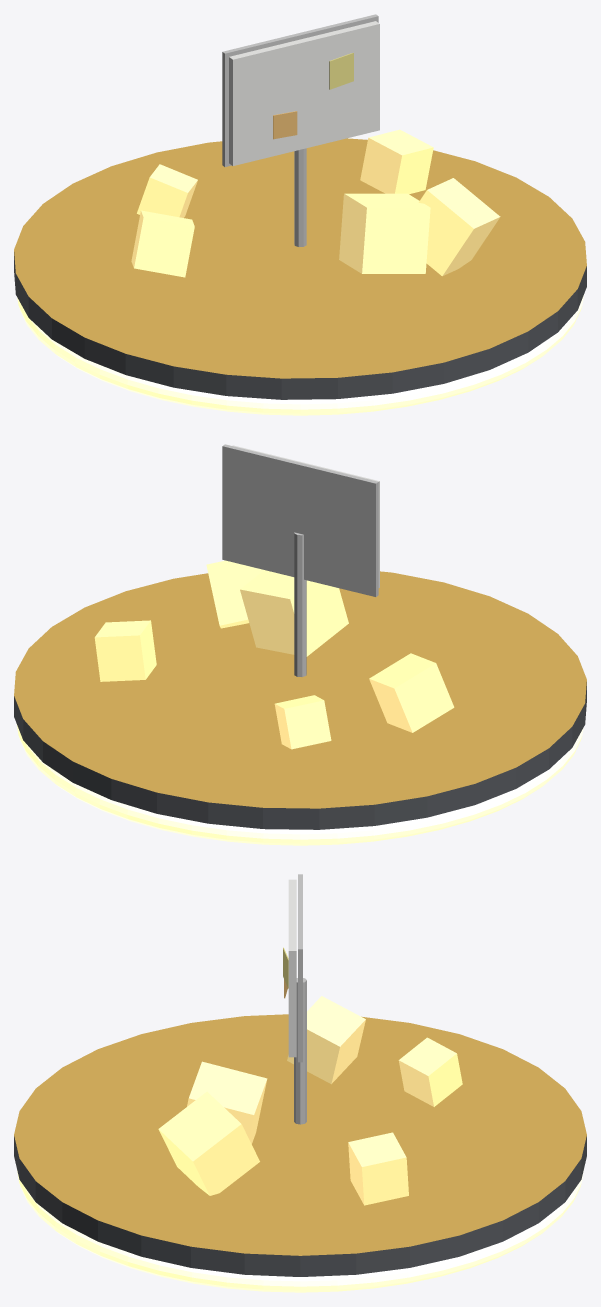
Rendered from ARScene_plateform_ocre.glb.
3 renders of one model, top to bottom at view 1: azimuth 30°, elevation 25°; view 2: azimuth 150°, elevation 25°; view 3: azimuth 270°, elevation 25°, orthographic.
Parts seen in each view (by area): view 1: Cylinder_Ocre, Board_Panel, Ring_Ocre.001, Cube_Dispersed_4, Cube_Dispersed_0, Cube_Dispersed_2, Cube_Dispersed_1, Cube_Dispersed_3, Board_Frame, Board_Leg, Postit_Yellow, Postit_Orange; view 2: Cylinder_Ocre, Board_Frame, Ring_Ocre.001, Cube_Dispersed_4, Cube_Dispersed_1, Cube_Dispersed_2, Cube_Dispersed_3, Cube_Dispersed_0, Board_Leg; view 3: Cylinder_Ocre, Ring_Ocre.001, Cube_Dispersed_0, Cube_Dispersed_1, Cube_Dispersed_2, Cube_Dispersed_4, Cube_Dispersed_3, Board_Panel, Board_Leg, Board_Frame.
Boxes of the visible parts, box(x1,y1,x2,y2) form: Cylinder_Ocre: box(14, 138, 586, 399); Board_Panel: box(229, 21, 379, 165); Ring_Ocre.001: box(17, 294, 584, 415); Cube_Dispersed_4: box(339, 193, 430, 273); Cube_Dispersed_0: box(418, 178, 500, 276); Cube_Dispersed_2: box(360, 129, 433, 194); Cube_Dispersed_1: box(131, 210, 194, 277); Cube_Dispersed_3: box(137, 164, 197, 217); Board_Frame: box(222, 14, 378, 166); Board_Leg: box(294, 148, 306, 246); Postit_Yellow: box(329, 53, 353, 89); Postit_Orange: box(273, 111, 297, 139); Cylinder_Ocre: box(14, 571, 586, 829); Board_Frame: box(222, 444, 378, 596); Ring_Ocre.001: box(16, 724, 583, 845); Cube_Dispersed_4: box(240, 570, 348, 656); Cube_Dispersed_1: box(369, 653, 454, 732); Cube_Dispersed_2: box(94, 620, 156, 681); Cube_Dispersed_3: box(274, 695, 331, 749); Cube_Dispersed_0: box(206, 560, 263, 628); Board_Leg: box(294, 532, 306, 676); Cylinder_Ocre: box(14, 1014, 586, 1276); Ring_Ocre.001: box(17, 1171, 583, 1292); Cube_Dispersed_0: box(158, 1091, 259, 1195); Cube_Dispersed_1: box(287, 996, 365, 1084); Cube_Dispersed_2: box(348, 1132, 408, 1205); Cube_Dispersed_4: box(187, 1061, 267, 1143); Cube_Dispersed_3: box(398, 1037, 462, 1106); Board_Panel: box(288, 879, 296, 1057); Board_Leg: box(294, 978, 306, 1124); Board_Frame: box(298, 874, 302, 1062).
Bounding box in the file's own units: 2.2 × 1.12 × 2.2.
